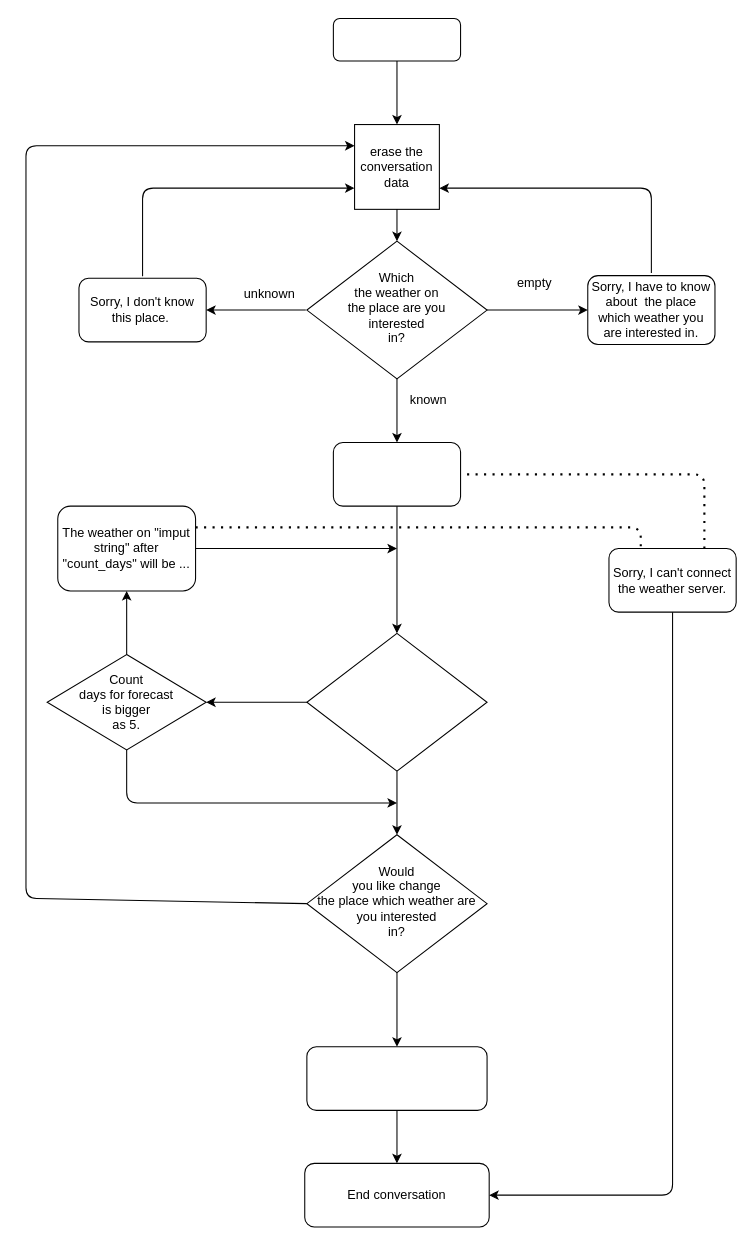
The diagram is 755 pixels wide and 1245 high, and some of its shapes have lost their labels. Each missing label, with the box of its shape:
Bye, have you a nice time on "inut_string": (306, 1046, 487, 1110)
Hi, I'm a weather chat bot.: (332, 17, 461, 61)
The weather on "input string" is :: (332, 441, 461, 506)
Would you like know which weather will be temmorow?: (306, 632, 487, 771)
